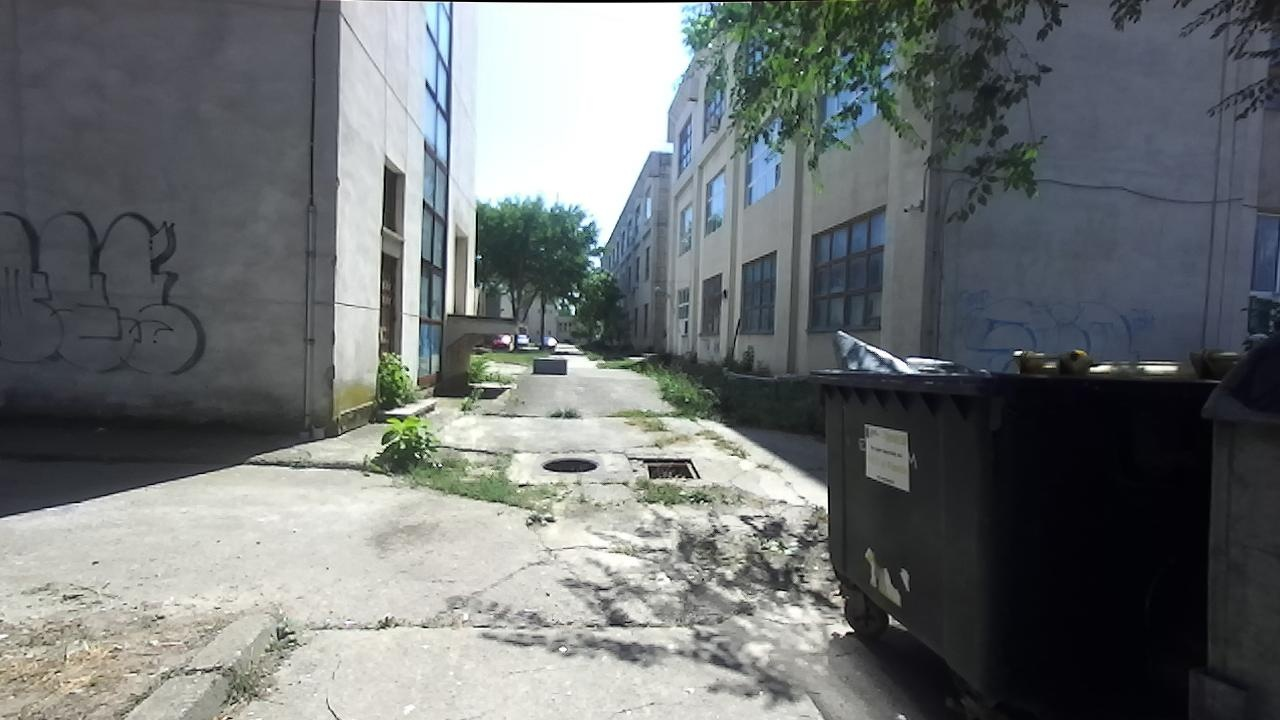drain: (644, 454, 704, 483), (542, 450, 602, 474)
